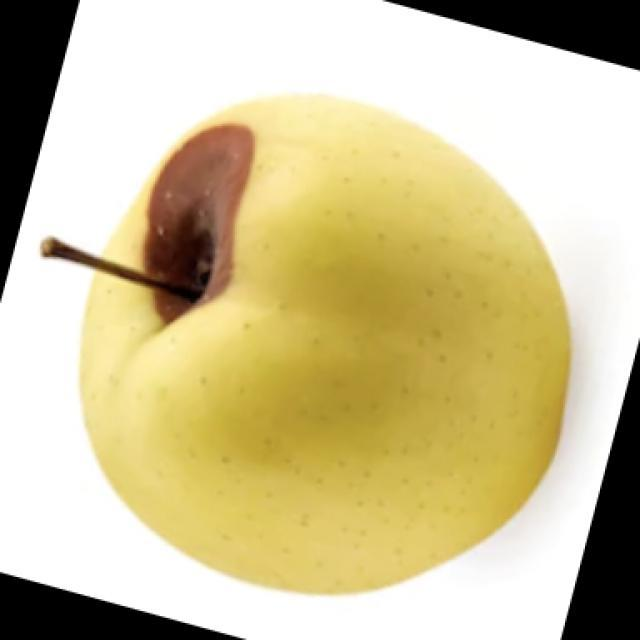Rotten: (85, 93, 558, 592)
